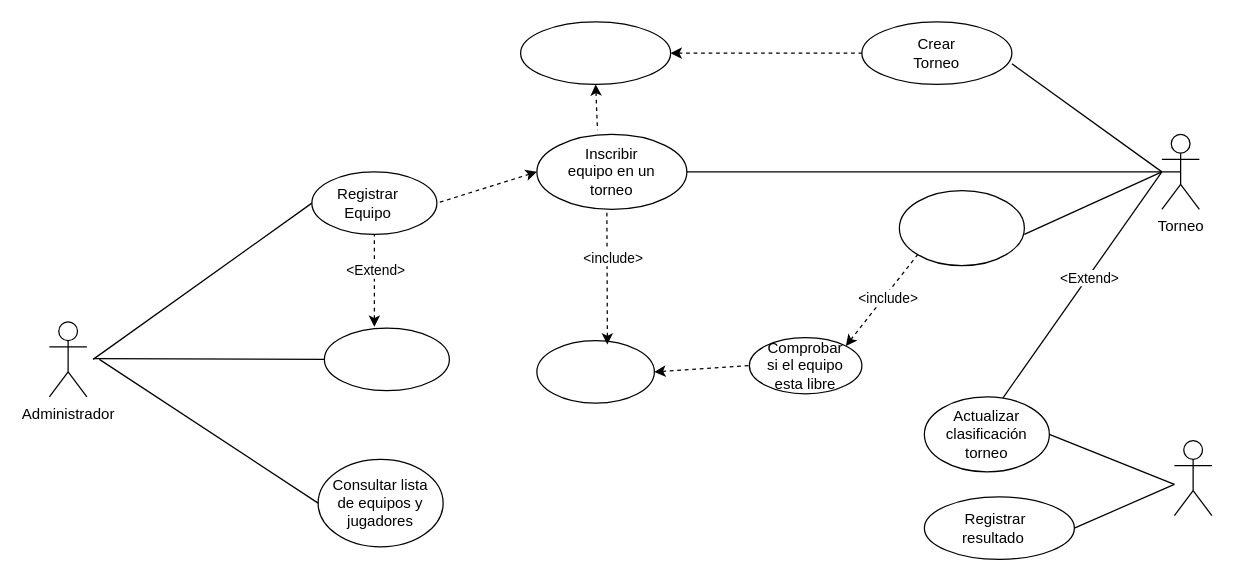
This 1238x581 diagram has some shape labels left out. The shapes that lost their labels are listed below. From the top down, each one's box as (x1, y1, x2, y2) in pixels, then its label:
(519, 21, 671, 84): Comprobar existencia de torneo
(898, 189, 1024, 266): Generar emparejamiento
(323, 327, 449, 391): Añadir jugadores
(536, 339, 654, 403): Comprobar si el equipo esta inscrito
(1173, 439, 1212, 516): Partido
